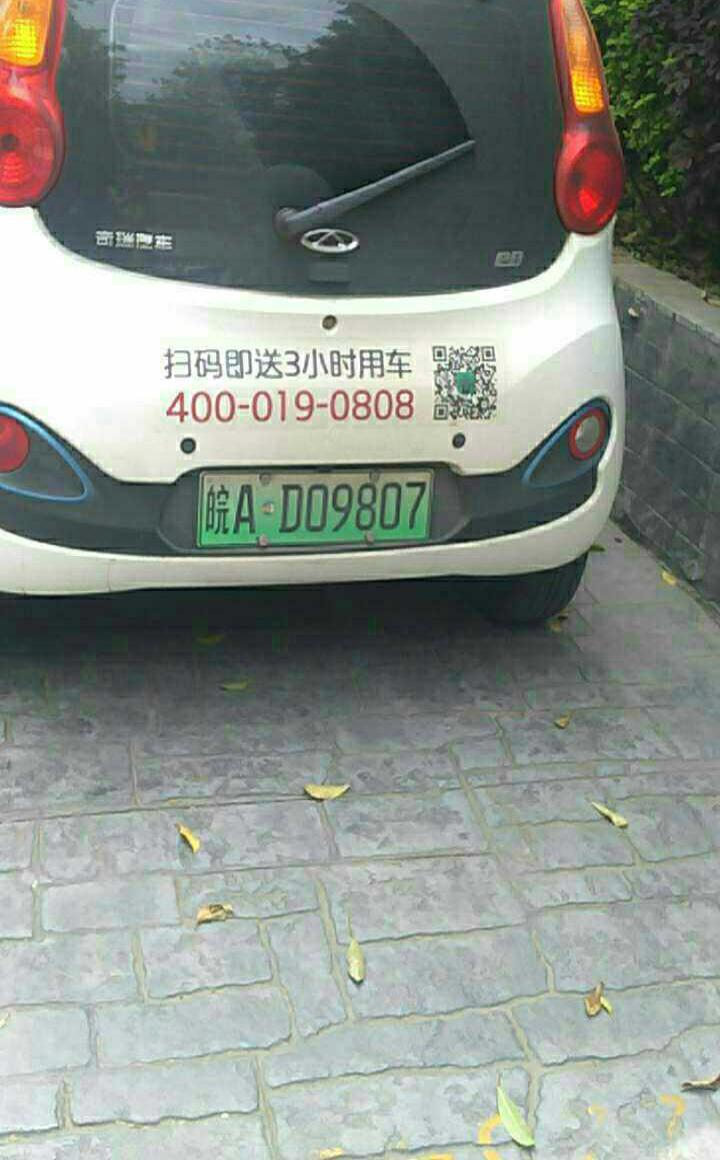car_green: (191, 462, 440, 544)
